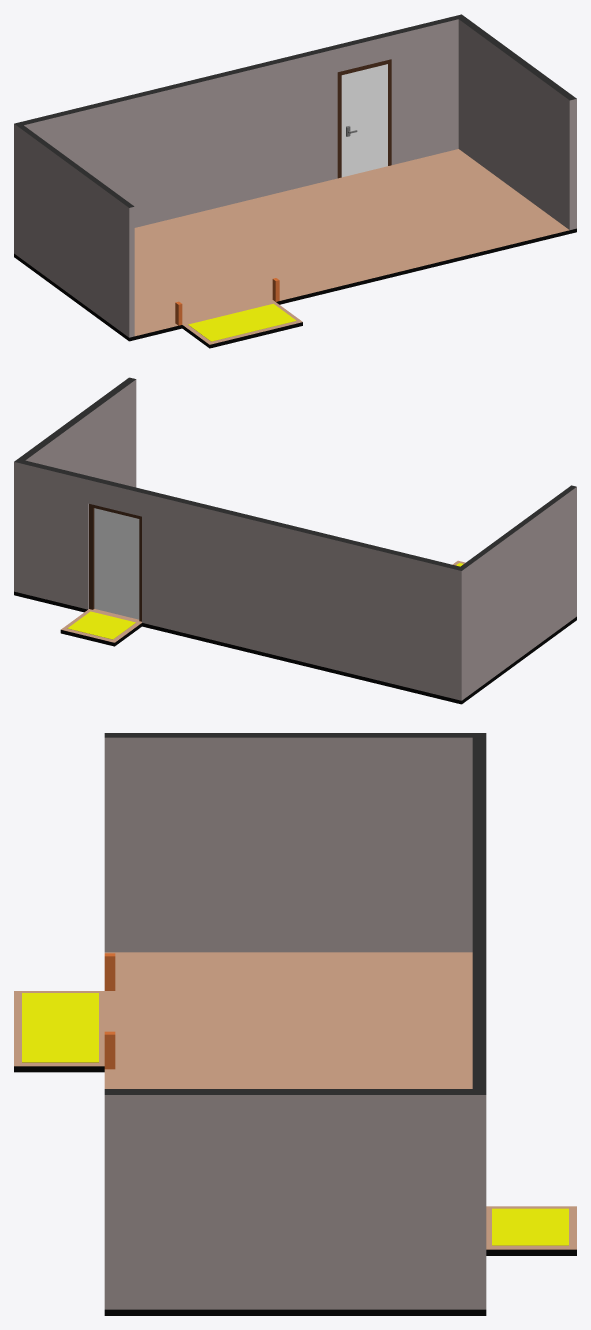
The model's file is AlmacenAtrezzo.fbx.
The picture shows the model from 3 angles, top to bottom: view 1: azimuth 30°, elevation 25°; view 2: azimuth 150°, elevation 25°; view 3: azimuth 270°, elevation 25°; orthographic projection. The views are drawn at different scales.
Visible parts, largest first — view 1: Paredes.008, PlataformaMovil.009, Puerta1.014, SalidaBambalinasIzq, MarcoPuerta.016; view 2: Paredes.008, Puerta1.014, PlataformaMovil.009, MarcoPuerta.016, SalidaTallerAtrezzo; view 3: Paredes.008, PlataformaMovil.009, SalidaBambalinasIzq, SalidaTallerAtrezzo, MarcoPuerta.017.
Boxes of the visible parts, x1=… form: Paredes.008: x1=14, y1=14, x2=576, y2=337; PlataformaMovil.009: x1=14, y1=149, x2=576, y2=348; Puerta1.014: x1=341, y1=64, x2=387, y2=177; SalidaBambalinasIzq: x1=188, y1=303, x2=296, y2=341; MarcoPuerta.016: x1=337, y1=59, x2=391, y2=178; Paredes.008: x1=14, y1=377, x2=576, y2=700; Puerta1.014: x1=94, y1=508, x2=139, y2=619; PlataformaMovil.009: x1=14, y1=560, x2=576, y2=704; MarcoPuerta.016: x1=89, y1=504, x2=141, y2=621; SalidaTallerAtrezzo: x1=67, y1=611, x2=135, y2=639; Paredes.008: x1=104, y1=733, x2=486, y2=1309; PlataformaMovil.009: x1=14, y1=952, x2=576, y2=1315; SalidaBambalinasIzq: x1=22, y1=993, x2=98, y2=1062; SalidaTallerAtrezzo: x1=492, y1=1208, x2=568, y2=1245; MarcoPuerta.017: x1=104, y1=953, x2=115, y2=1069.
Size of the model in its own units: 23591 by 6720 by 15516.
